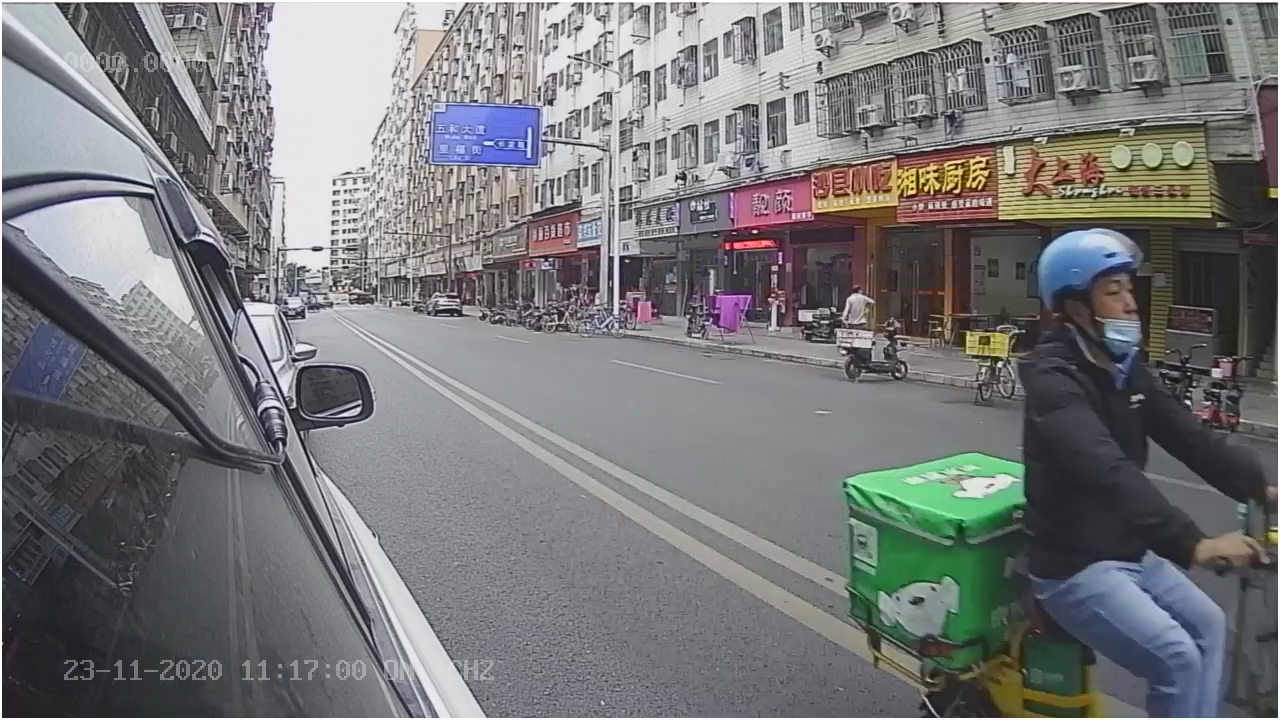person: (1009, 223, 1265, 507)
